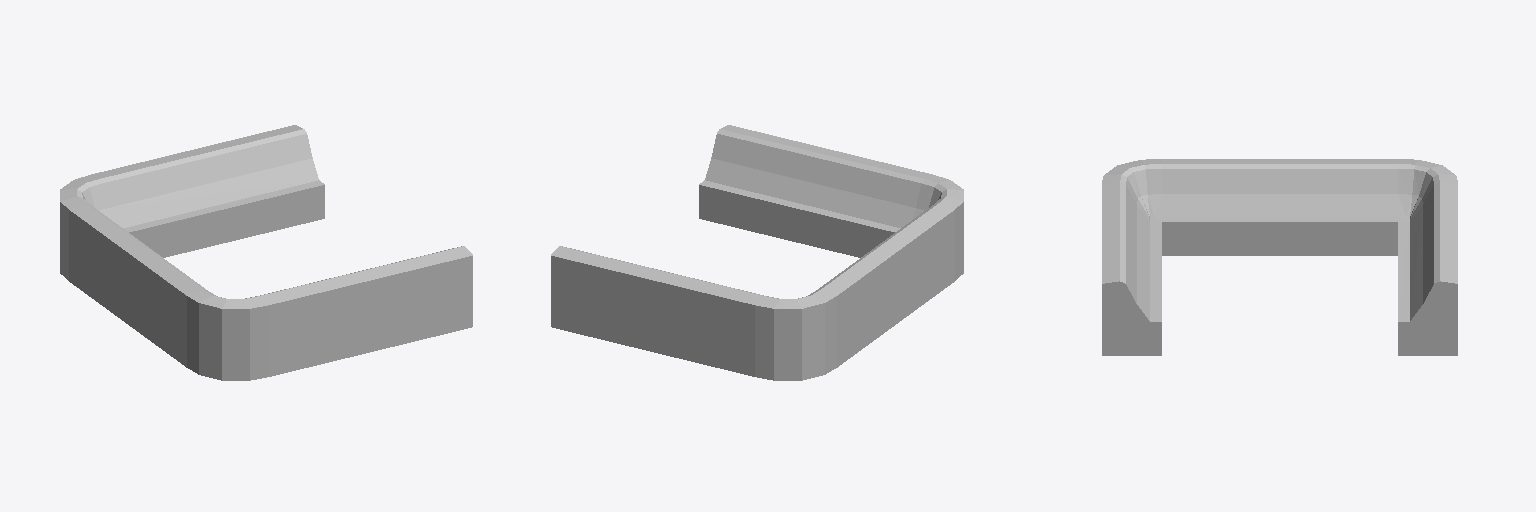
File: InwardCurvedWall_Lower_3edges.obj
The picture shows the model from 3 angles: view 1: azimuth 30°, elevation 25°; view 2: azimuth 150°, elevation 25°; view 3: azimuth 270°, elevation 25°; orthographic projection.
Parts seen in each view (by area): view 1: InwardCurvedWall_Lower1_3_edges export_grp; view 2: InwardCurvedWall_Lower1_3_edges export_grp; view 3: InwardCurvedWall_Lower1_3_edges export_grp.
Boxes of the visible parts, box(x1,y1,x2,y2) form: InwardCurvedWall_Lower1_3_edges export_grp: box(60, 125, 472, 380); InwardCurvedWall_Lower1_3_edges export_grp: box(551, 125, 963, 380); InwardCurvedWall_Lower1_3_edges export_grp: box(1102, 159, 1457, 355).
Size of the model in its own units: 10.03 by 2.78 by 12.09.